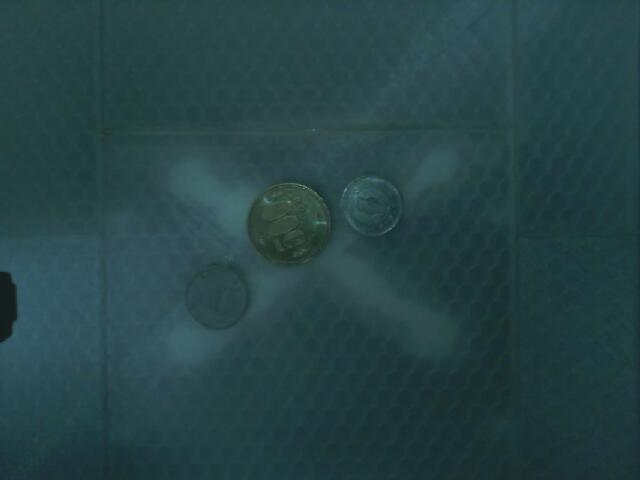1yen: (340, 175, 404, 237), (186, 266, 248, 328)
500yen: (246, 183, 332, 266)
